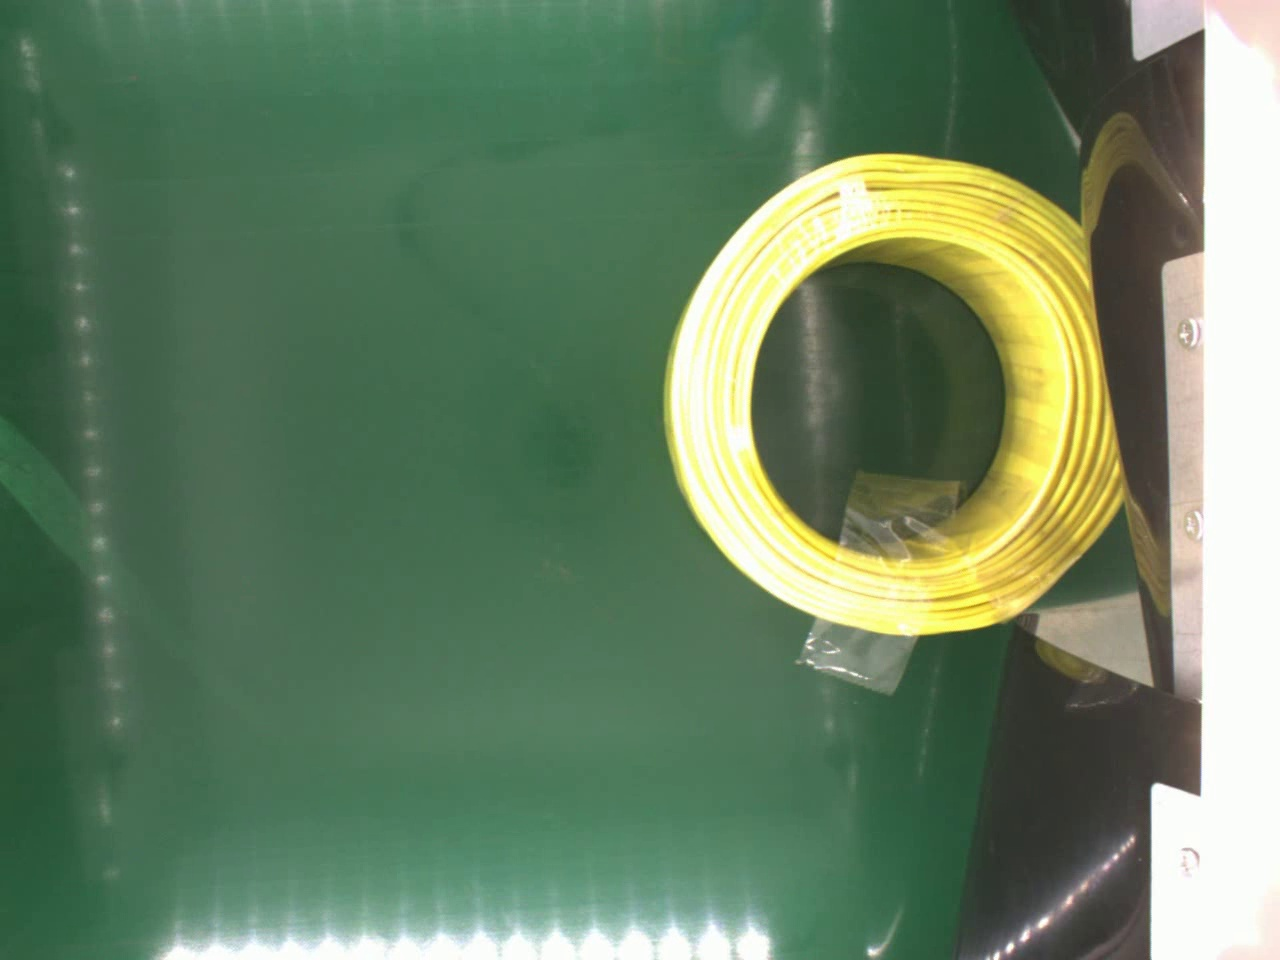yellow: (652, 147, 1134, 631)
